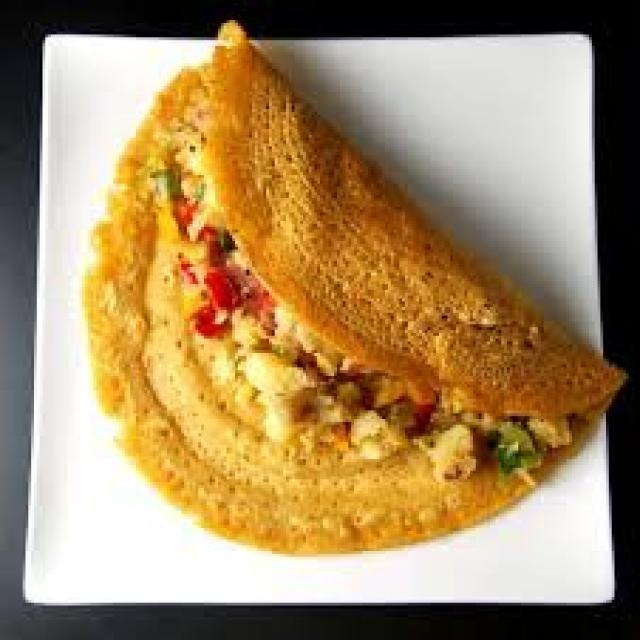dosa: (93, 34, 618, 560)
